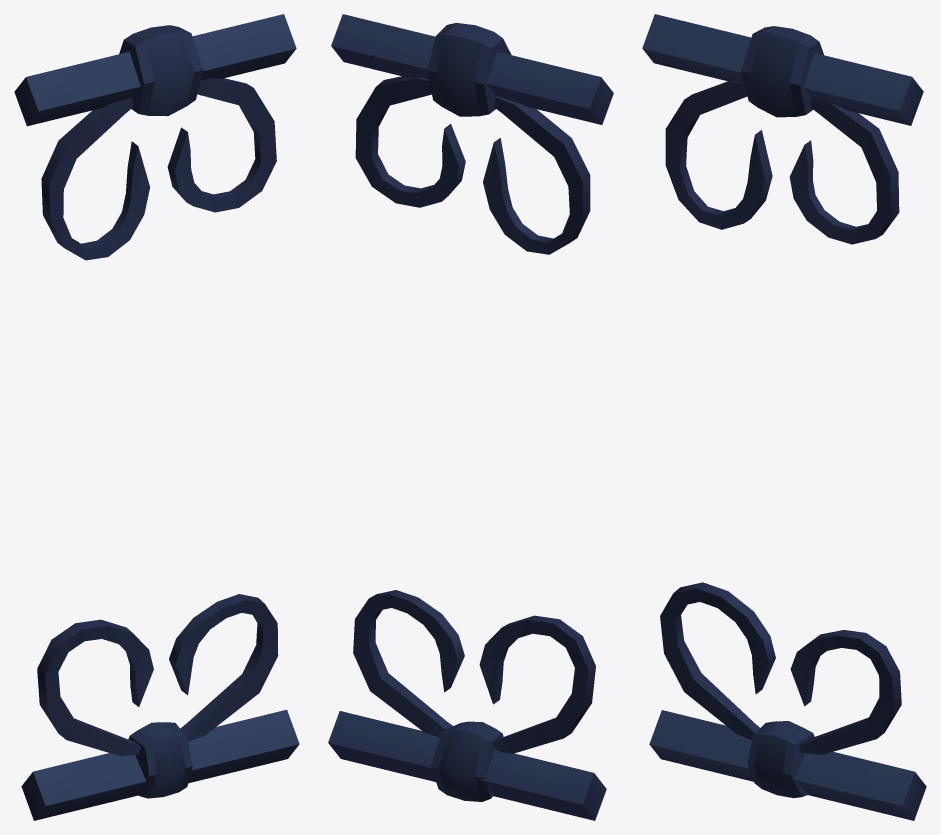
Rendered from Iron_Fence_Midsection.fbx.
The picture shows the model from 3 angles, left to right: view 1: azimuth 30°, elevation 25°; view 2: azimuth 150°, elevation 25°; view 3: azimuth 330°, elevation 25°; orthographic projection.
Visible parts, largest first — view 1: Iron_Fence_Midsection; view 2: Iron_Fence_Midsection; view 3: Iron_Fence_Midsection.
Part boxes in pixels (bbox=[...]): Iron_Fence_Midsection: bbox=[14, 14, 299, 820]; Iron_Fence_Midsection: bbox=[328, 14, 613, 820]; Iron_Fence_Midsection: bbox=[642, 14, 926, 820].
Size of the model in its own units: 2.45 by 6.86 by 0.5573.
